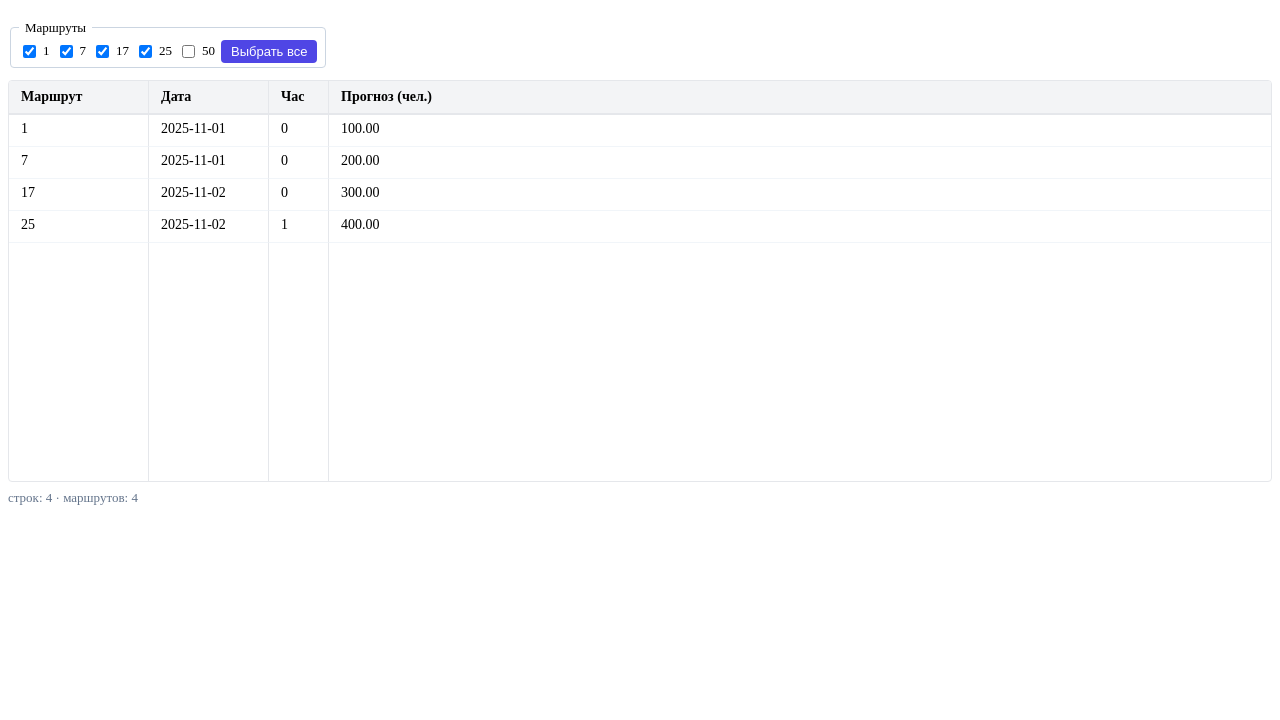
Test: <PredictionsTable> › кнопка "Свернуть" возвращает к щадящему выбору
The image size is (1280, 720).
Click the button with test id "predictions-table-show-all". click: click(269, 51)
box: [221,40,318,63]
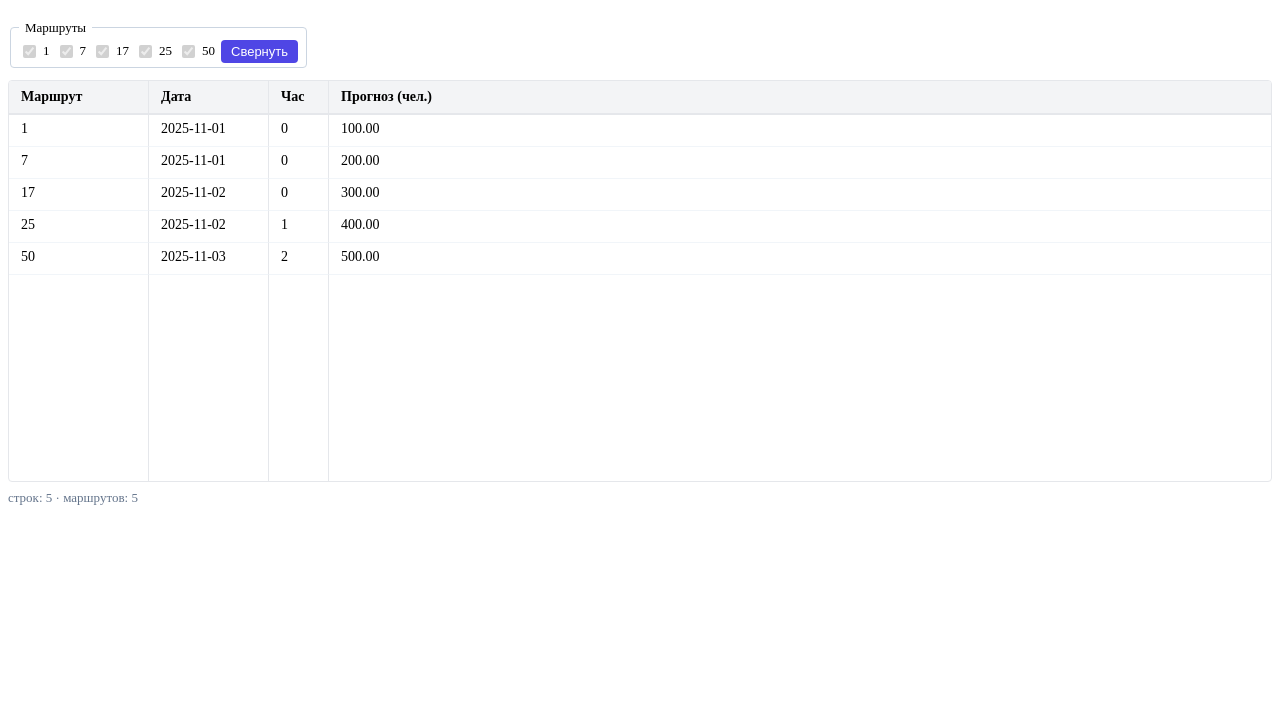
Click the button with test id "predictions-table-collapse". click: click(260, 51)
box: [221,40,298,63]
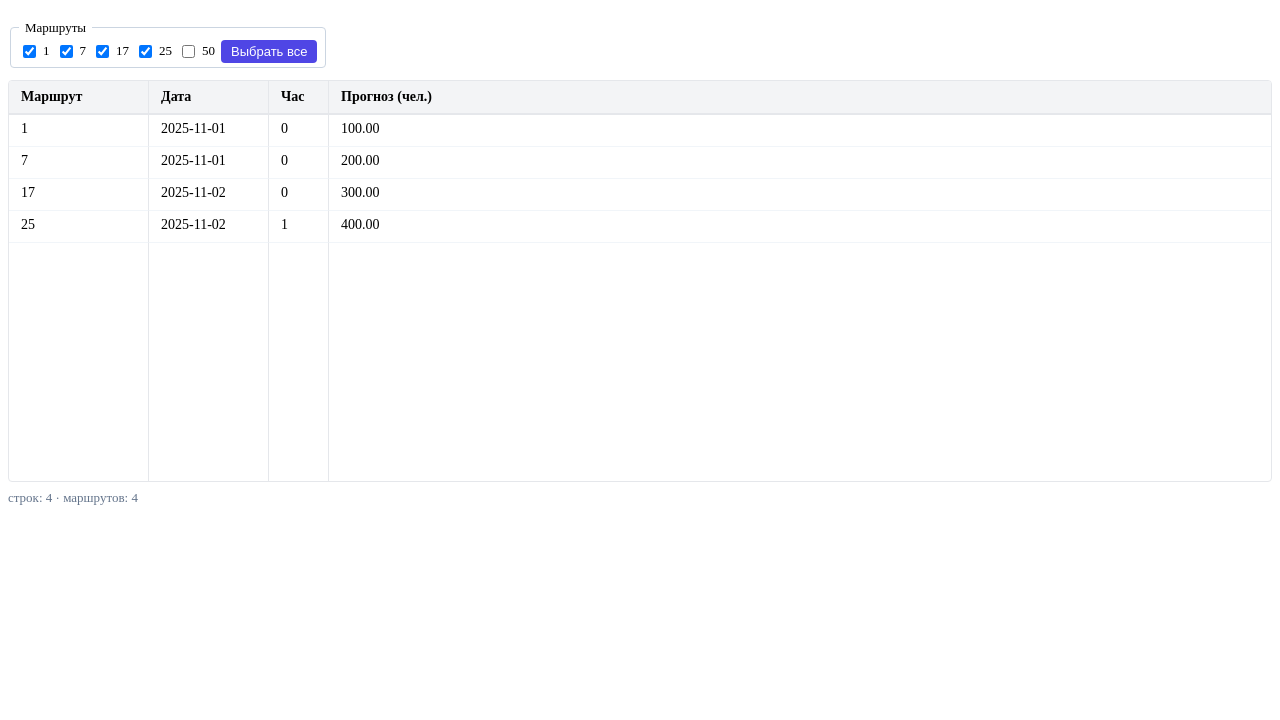
Now the checkbox named "Маршрут 50" is not checked, box [182,45,195,58]
Now the button with test id "predictions-table-show-all" is shown, box [221,40,318,63]
